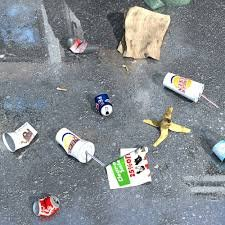cardboard: (117, 5, 168, 61)
food: (141, 107, 197, 148)
metal: (28, 189, 65, 222), (89, 91, 116, 120)
paper: (102, 145, 158, 192)
plastic: (158, 67, 225, 113), (46, 125, 107, 172), (3, 121, 39, 153), (211, 136, 225, 169)
trash: (67, 34, 101, 56)
